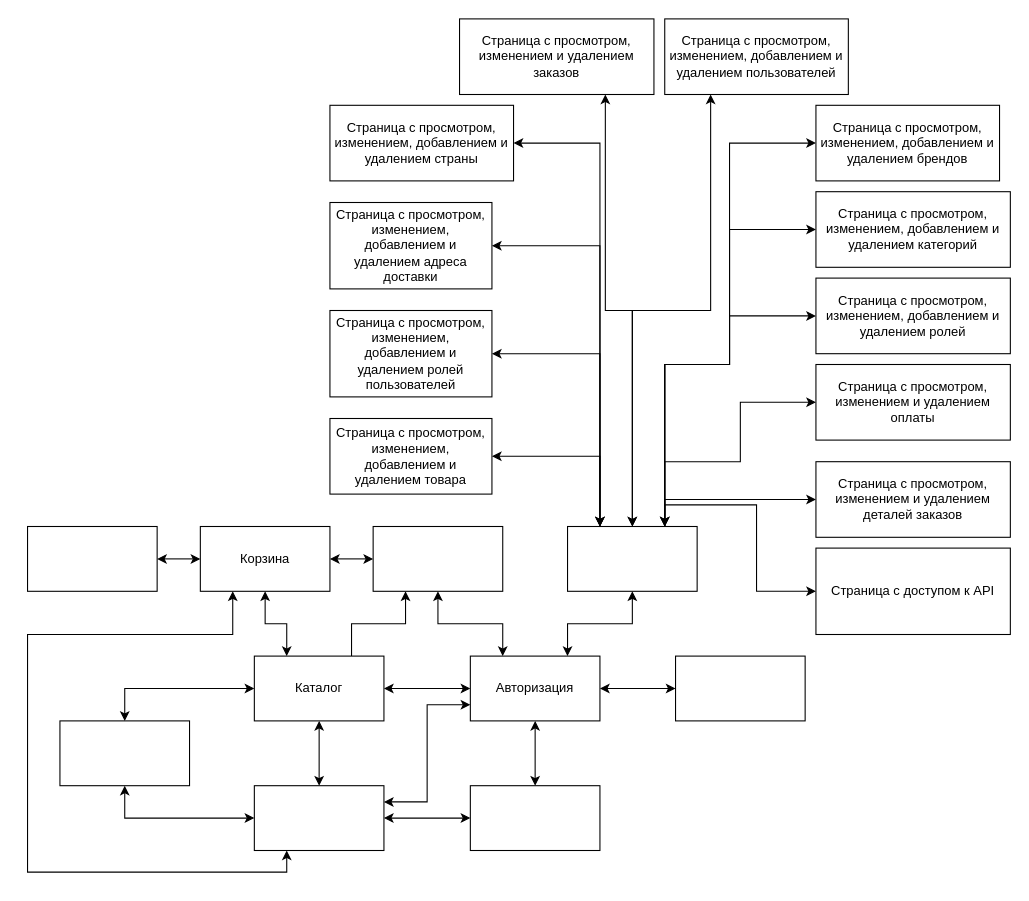
The diagram is 1029 pixels wide and 901 high, and some of its shapes have lost their labels. The centre of each missing label's shape, as x and y in pixels:
"Выход из аккаунта" belongs at point 739,688.
"Главная страница" belongs at point 318,817.
"Оформление заказа" belongs at point 91,558.
"Подробная информация о товаре" belongs at point 124,753.
"Профиль" belongs at point 437,558.
"Регистрация" belongs at point 534,817.
"Страница менеджера" belongs at point 631,558.
